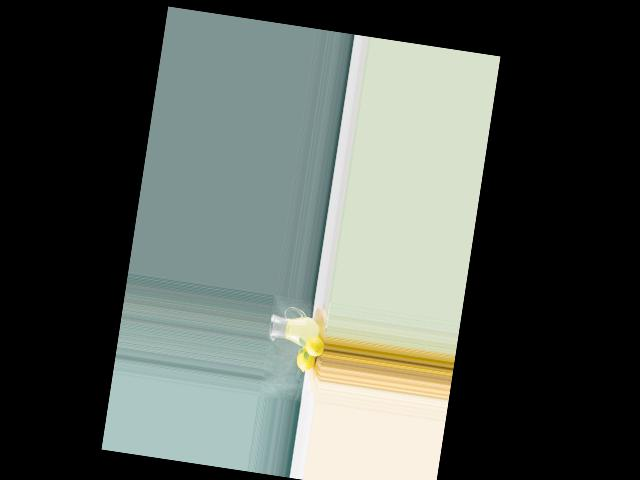lemon: (302, 333, 324, 361)
